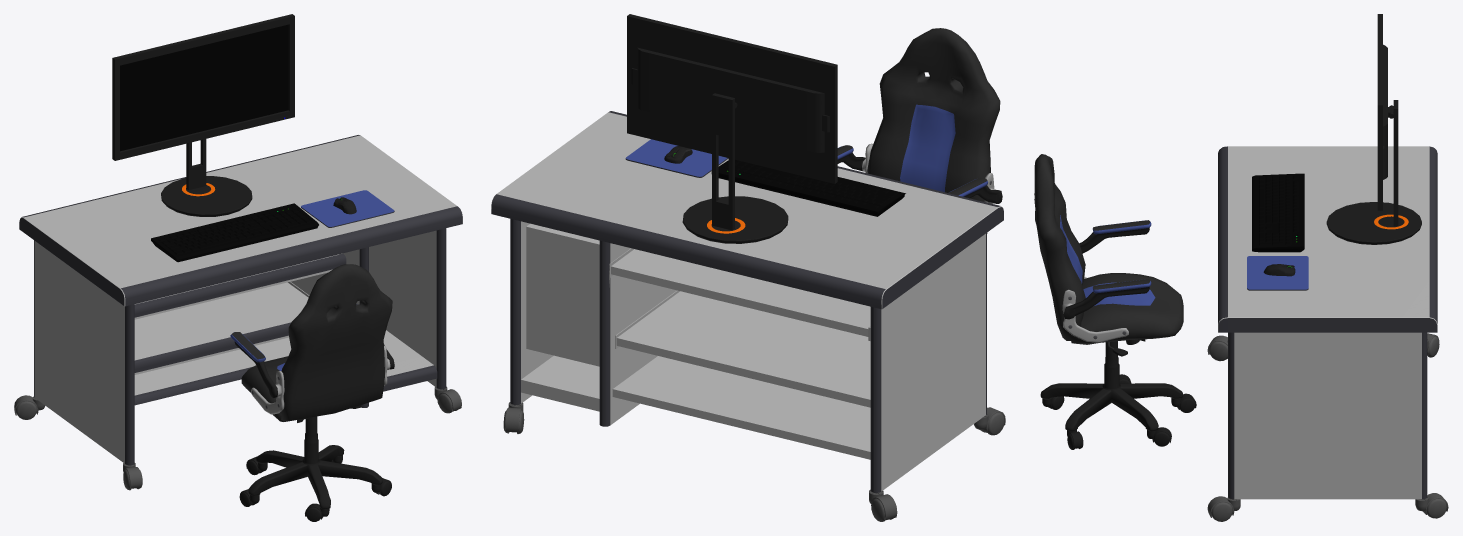
The picture shows the model from 3 angles, left to right: view 1: azimuth 30°, elevation 25°; view 2: azimuth 150°, elevation 25°; view 3: azimuth 270°, elevation 25°; orthographic projection. The views are drawn at different scales.
Visible parts, largest first — view 1: Object_13, Object_15, Object_5, Object_19, Object_12, Object_20, Object_17, Object_10, Object_11, Object_16, Object_9; view 2: Object_13, Object_15, Object_12, Object_11, Object_19, Object_10, Object_17, Object_16, Object_20; view 3: Object_13, Object_19, Object_15, Object_20, Object_12, Object_17, Object_10, Object_16, Object_11, Object_9.
Boxes of the visible parts, x1,y1,x2,y2 form: Object_13: [20, 135, 462, 463]; Object_15: [19, 135, 462, 465]; Object_5: [120, 24, 288, 151]; Object_19: [231, 203, 392, 421]; Object_12: [115, 16, 294, 216]; Object_20: [234, 197, 394, 521]; Object_17: [151, 203, 318, 262]; Object_10: [230, 190, 394, 370]; Object_11: [112, 14, 294, 189]; Object_16: [14, 386, 461, 494]; Object_9: [251, 345, 390, 414]; Object_13: [491, 112, 1002, 491]; Object_15: [491, 111, 1003, 492]; Object_12: [631, 47, 829, 243]; Object_11: [627, 14, 837, 230]; Object_19: [682, 28, 1000, 233]; Object_10: [626, 104, 987, 196]; Object_17: [711, 159, 905, 216]; Object_16: [503, 402, 1005, 521]; Object_20: [664, 146, 1002, 203]; Object_13: [1218, 146, 1437, 499]; Object_19: [1034, 154, 1183, 349]; Object_15: [1218, 146, 1437, 499]; Object_20: [1040, 227, 1295, 449]; Object_12: [1326, 44, 1421, 244]; Object_17: [1252, 173, 1304, 252]; Object_10: [1060, 215, 1308, 305]; Object_16: [1207, 333, 1448, 521]; Object_11: [1377, 14, 1398, 210]; Object_9: [1062, 276, 1128, 342].
Bounding box in the file's own units: 7.52 × 7.46 × 7.47.
